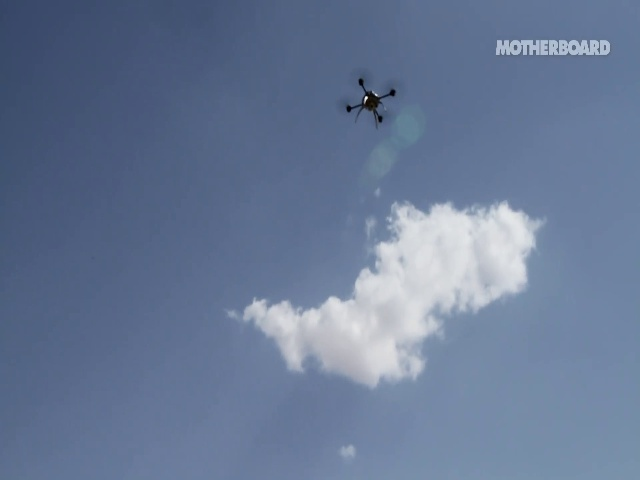drone: (335, 65, 408, 133)
